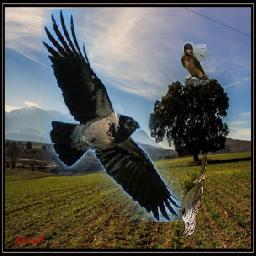Crow: (42, 10, 188, 223)
Sparrow: (181, 156, 208, 238)
Swallow: (181, 43, 209, 86)
